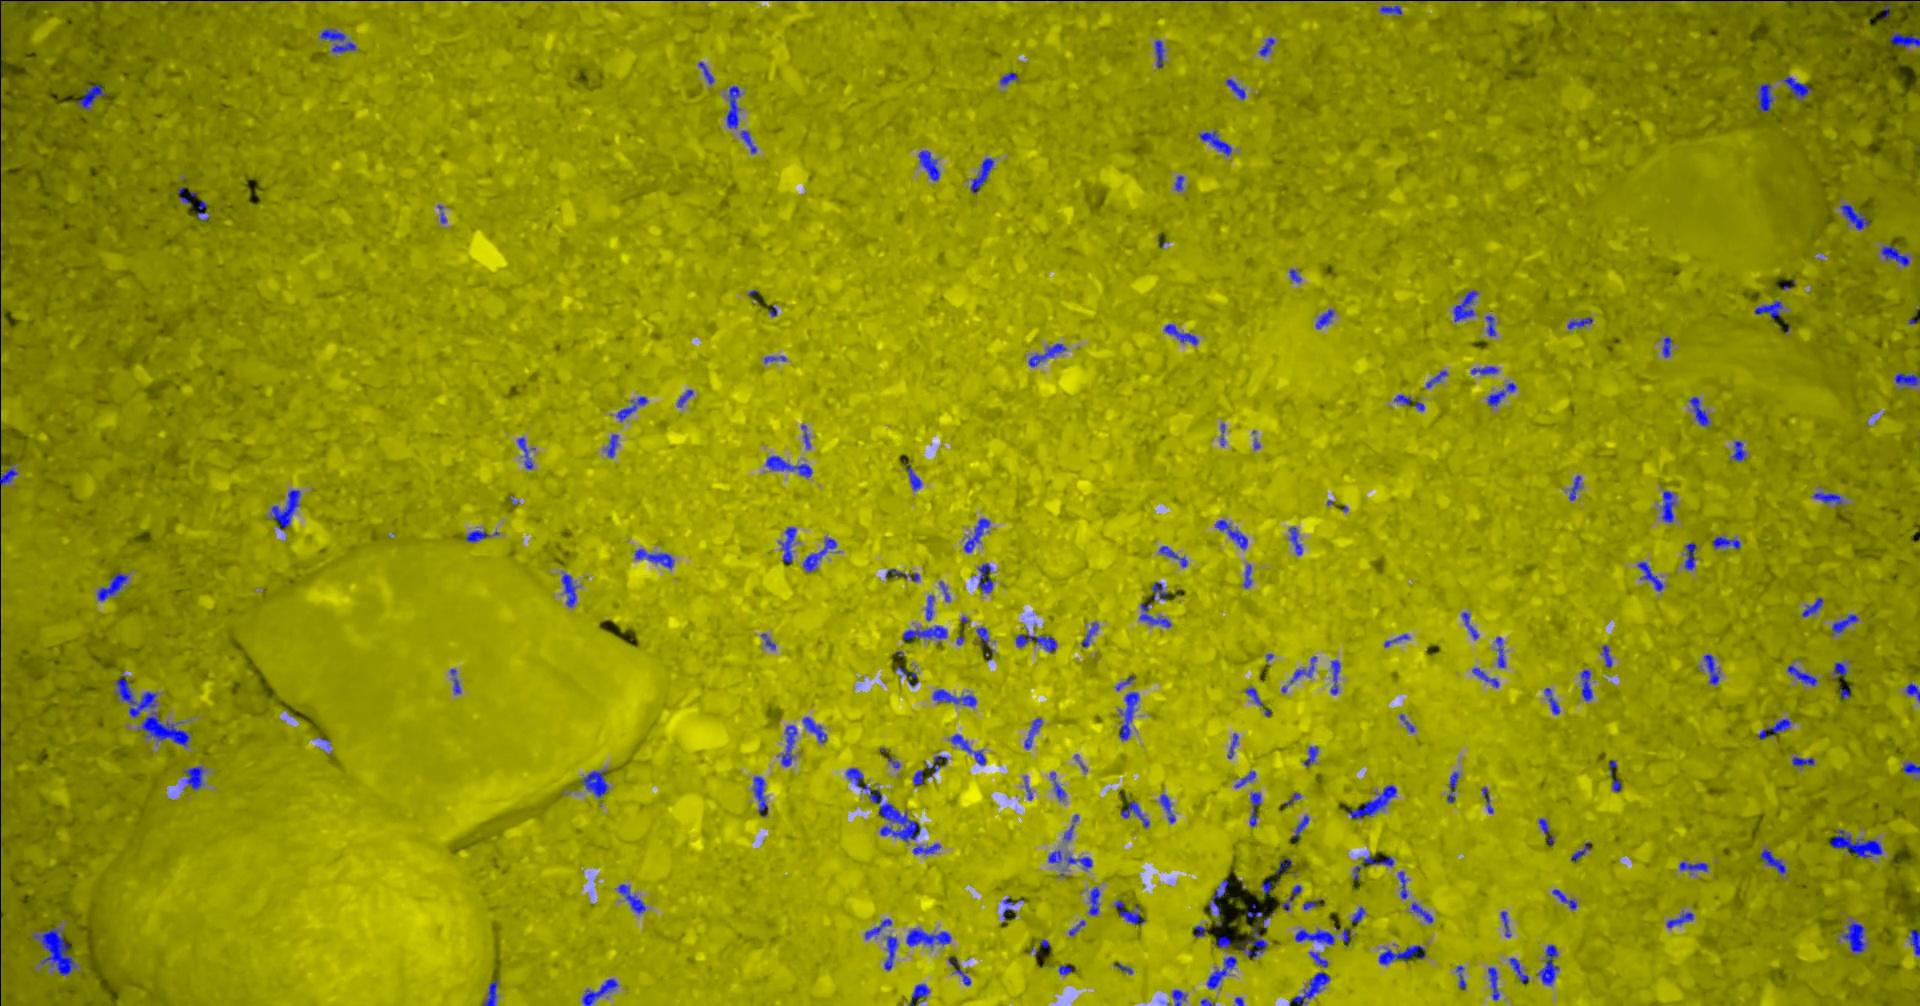ant: (32, 927, 75, 976), (1347, 784, 1396, 818), (1830, 829, 1882, 857), (1289, 970, 1330, 1005), (269, 489, 300, 530), (950, 733, 985, 765), (1832, 0, 1898, 17), (803, 539, 836, 572), (764, 455, 811, 478), (1117, 691, 1138, 741), (582, 978, 617, 1005), (1208, 879, 1228, 925), (1215, 520, 1247, 549), (1206, 956, 1236, 988), (963, 518, 989, 553), (1378, 945, 1425, 964), (1537, 944, 1558, 984), (1027, 343, 1065, 366), (320, 28, 356, 52), (97, 572, 127, 600), (617, 883, 645, 913), (1451, 290, 1478, 321), (902, 625, 946, 644), (1048, 850, 1091, 869), (970, 158, 993, 193), (1637, 560, 1663, 591), (1239, 926, 1266, 956), (1839, 203, 1870, 229), (1840, 921, 1865, 953), (634, 547, 673, 568), (1015, 633, 1057, 652), (1197, 131, 1230, 155), (932, 688, 977, 706), (905, 929, 950, 946), (1120, 800, 1149, 827), (1139, 602, 1170, 627), (616, 396, 648, 420), (1114, 899, 1145, 923), (1289, 655, 1316, 683), (1163, 323, 1197, 344), (1757, 716, 1790, 738), (582, 770, 608, 796), (77, 83, 105, 108), (1785, 664, 1817, 686), (1759, 848, 1785, 874), (1487, 382, 1515, 406), (1782, 75, 1811, 98), (917, 150, 938, 180), (1688, 396, 1709, 426), (1158, 545, 1187, 567), (781, 725, 796, 766), (1294, 929, 1335, 944), (803, 716, 825, 743), (778, 526, 795, 563), (726, 85, 740, 128), (949, 956, 970, 984), (752, 776, 767, 815), (1879, 245, 1909, 265), (1470, 667, 1498, 687), (863, 918, 891, 939), (1023, 716, 1041, 748), (1550, 888, 1576, 909), (1754, 300, 1782, 319), (561, 573, 577, 607), (1831, 614, 1857, 634), (1509, 956, 1528, 983), (1703, 653, 1719, 683), (883, 935, 897, 970), (1281, 885, 1302, 909), (517, 437, 532, 469), (1666, 909, 1693, 927), (977, 563, 992, 593), (895, 666, 918, 686), (1410, 902, 1432, 922), (1755, 83, 1771, 111), (1081, 621, 1098, 647), (1890, 32, 1919, 47), (1159, 793, 1175, 822), (1661, 490, 1675, 522), (1462, 612, 1478, 639), (1543, 687, 1559, 714), (1049, 772, 1065, 799), (1570, 841, 1591, 861), (909, 983, 930, 1005), (184, 766, 203, 789), (1225, 77, 1244, 99), (1801, 597, 1822, 616), (926, 754, 947, 774), (1425, 370, 1448, 387), (905, 464, 921, 490), (1608, 760, 1620, 791), (1288, 526, 1302, 554), (1812, 492, 1843, 504), (1580, 669, 1592, 700), (1063, 814, 1078, 840), (739, 130, 756, 152), (177, 185, 196, 205), (1244, 687, 1263, 706), (1487, 967, 1498, 998), (1234, 770, 1255, 788), (0, 464, 17, 485), (1291, 815, 1308, 837), (1712, 536, 1740, 549), (1683, 542, 1695, 570), (1384, 633, 1410, 647), (1679, 861, 1707, 874), (483, 979, 497, 1005), (1446, 771, 1458, 801), (1363, 855, 1393, 866), (1316, 309, 1333, 328), (1274, 857, 1291, 876), (1330, 661, 1340, 694), (1250, 793, 1260, 826), (697, 61, 712, 83), (1567, 316, 1592, 329), (1568, 475, 1581, 500), (1481, 788, 1493, 813), (604, 434, 618, 457), (1087, 887, 1098, 915), (1150, 582, 1168, 600), (1495, 636, 1505, 667), (1895, 372, 1919, 385), (465, 530, 489, 542), (1731, 439, 1745, 461), (1258, 37, 1274, 56), (1308, 951, 1327, 967), (1303, 746, 1317, 766), (912, 843, 940, 854), (677, 389, 692, 406), (1397, 871, 1407, 898), (1500, 911, 1510, 937), (1909, 929, 1919, 955), (1832, 661, 1846, 680), (1905, 682, 1919, 701), (1154, 39, 1163, 69), (196, 199, 208, 220), (924, 594, 935, 620), (450, 668, 460, 694), (1227, 733, 1237, 758), (1790, 756, 1815, 766), (1455, 965, 1465, 988), (1171, 989, 1186, 1005), (1246, 903, 1262, 917), (999, 72, 1017, 85), (1379, 5, 1401, 15), (1484, 315, 1495, 337), (977, 626, 988, 645), (1261, 882, 1277, 894), (1351, 906, 1364, 922), (1470, 366, 1497, 373), (1242, 564, 1251, 587), (1217, 934, 1230, 948), (1603, 645, 1611, 667), (1393, 394, 1410, 405), (1902, 762, 1919, 774), (1662, 337, 1671, 357), (912, 770, 923, 785), (1839, 685, 1850, 699), (1058, 964, 1072, 974), (1175, 175, 1183, 191)
